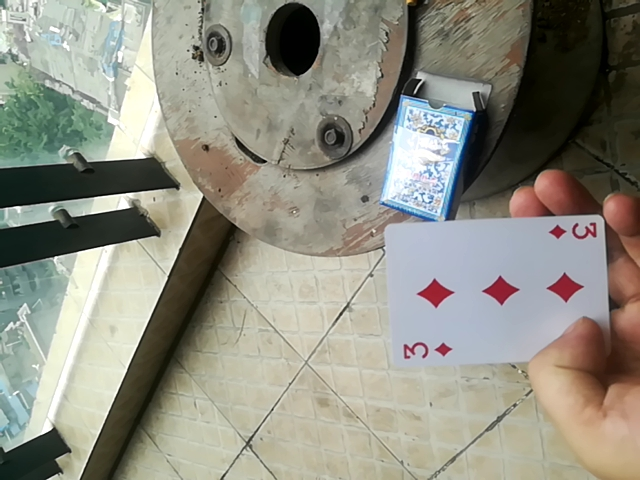fk 3: (376, 212, 612, 368)
